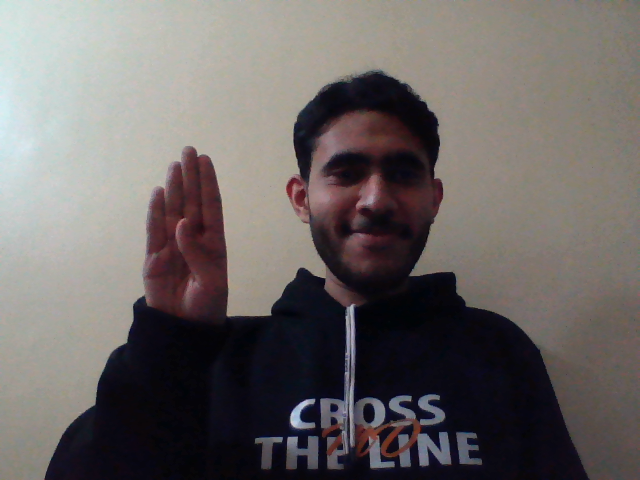B: (135, 139, 229, 329)
